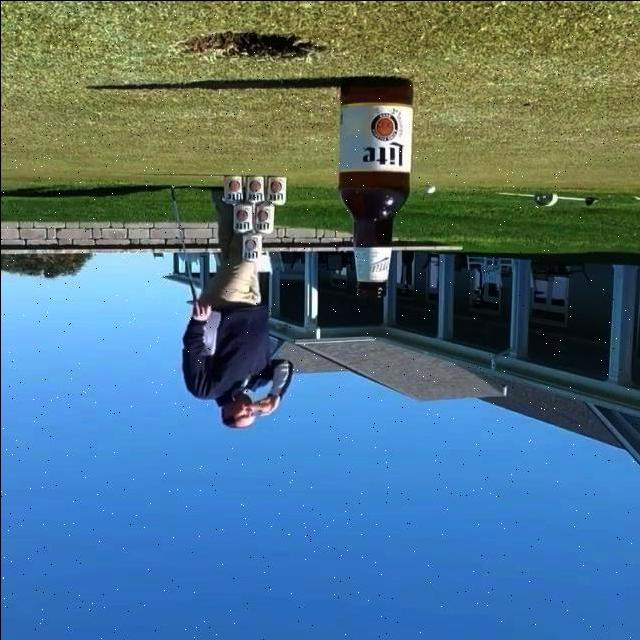golf ball: (423, 184, 435, 193)
golf club-handle: (167, 184, 201, 306)
golf club-head: (184, 298, 199, 305)
